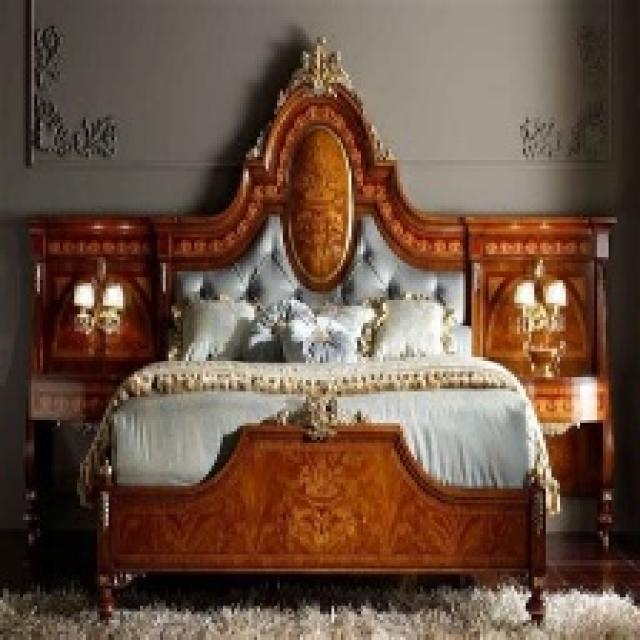Bed: (37, 34, 614, 626)
